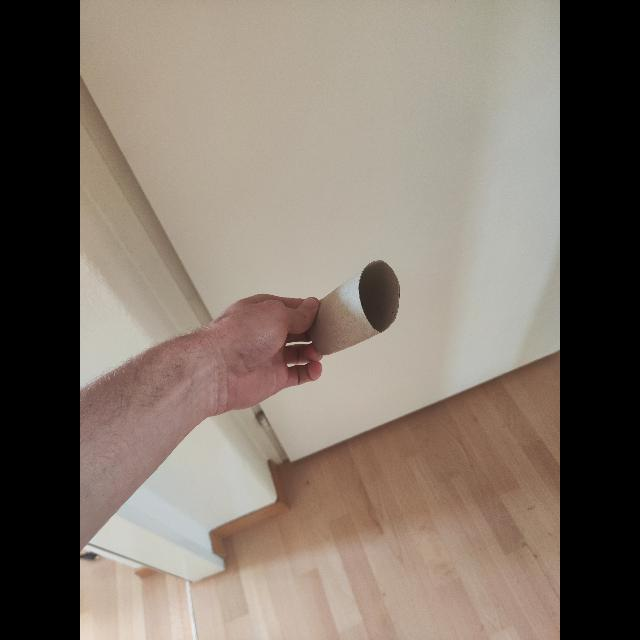Cardboard: (307, 261, 407, 357)
